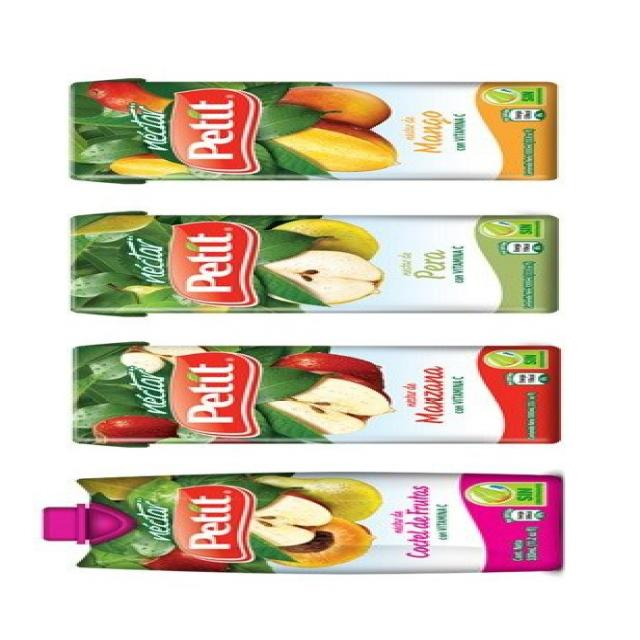non_white_jug: (36, 470, 572, 576), (62, 340, 570, 451), (66, 76, 566, 185), (66, 210, 566, 318)
